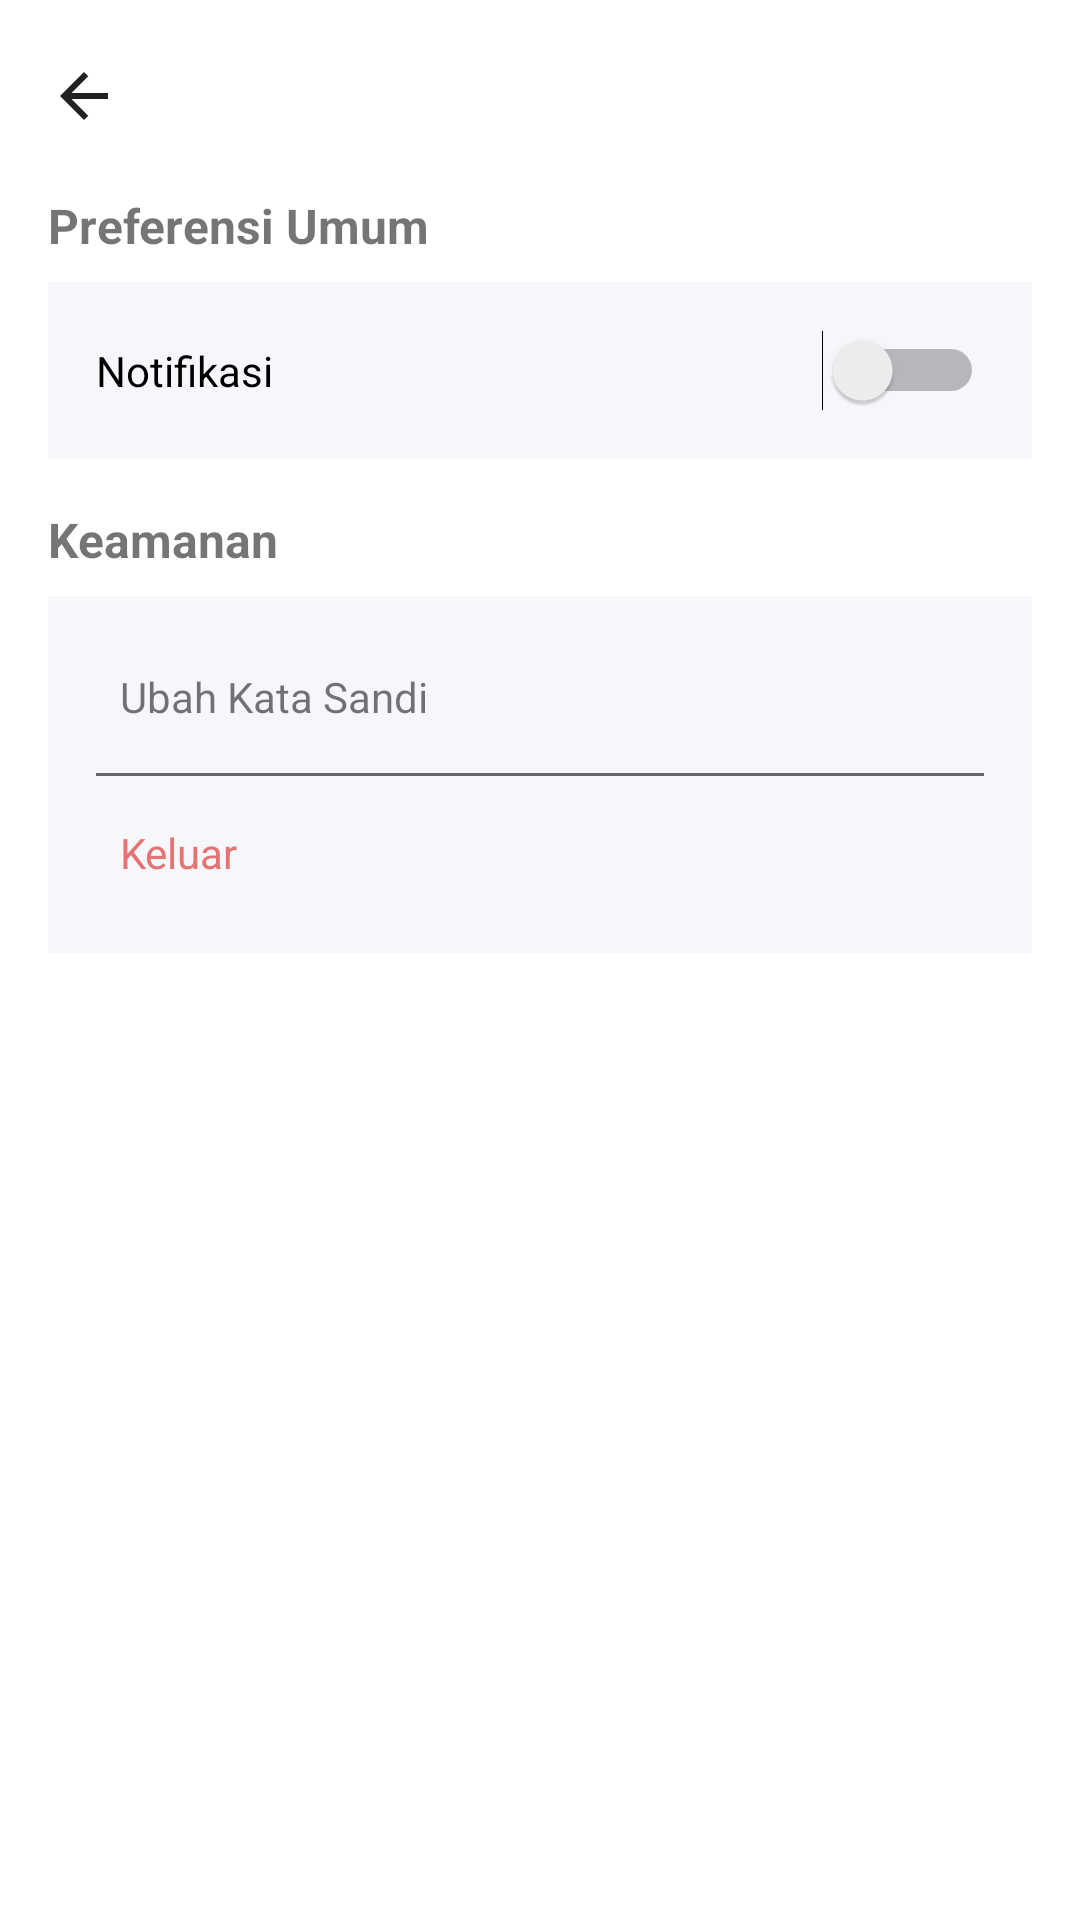

Icons on this 1080px x 1920px Android screen, each with the point to tap as (x,y):
Kembali: (84,96)
